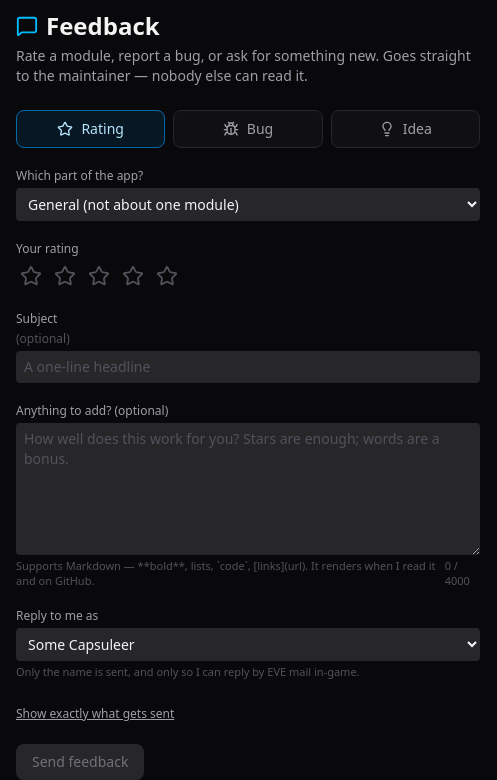
it: FeedbackPage › sends the rating, module and character choice the user made
Select "Production" in the dropdown labelled "Which part of the app?": (248, 204) [16,188,480,221]
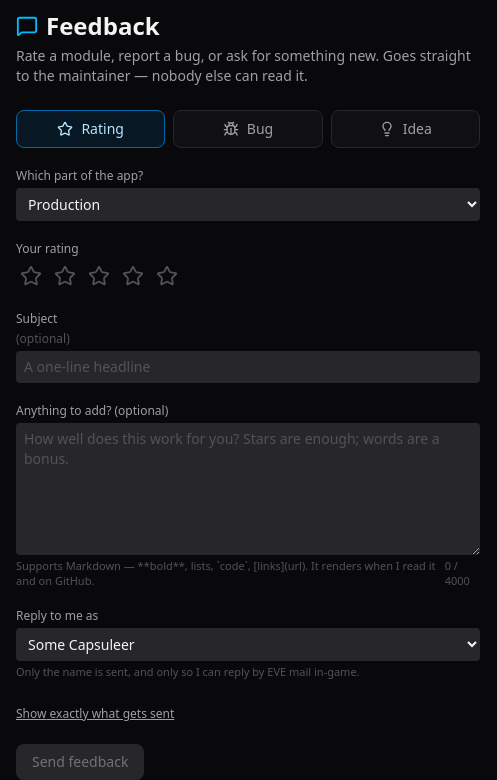
Click the button named "5 stars": (167, 276) [152,261,182,291]
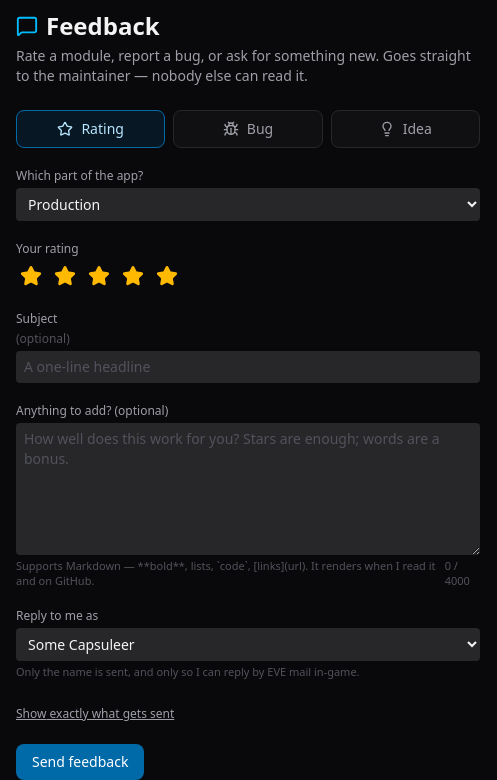
Click the button "Send feedback": (80, 762) [16,744,144,779]
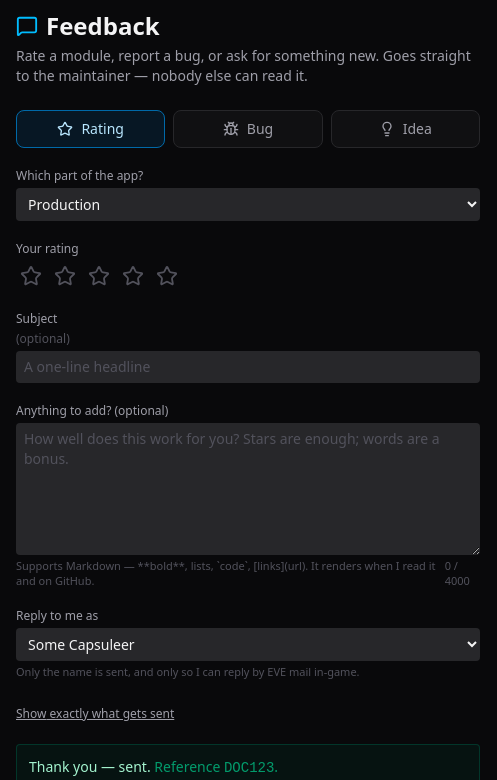
Result: the text "DOC123" is shown at [224,760,274,776]
